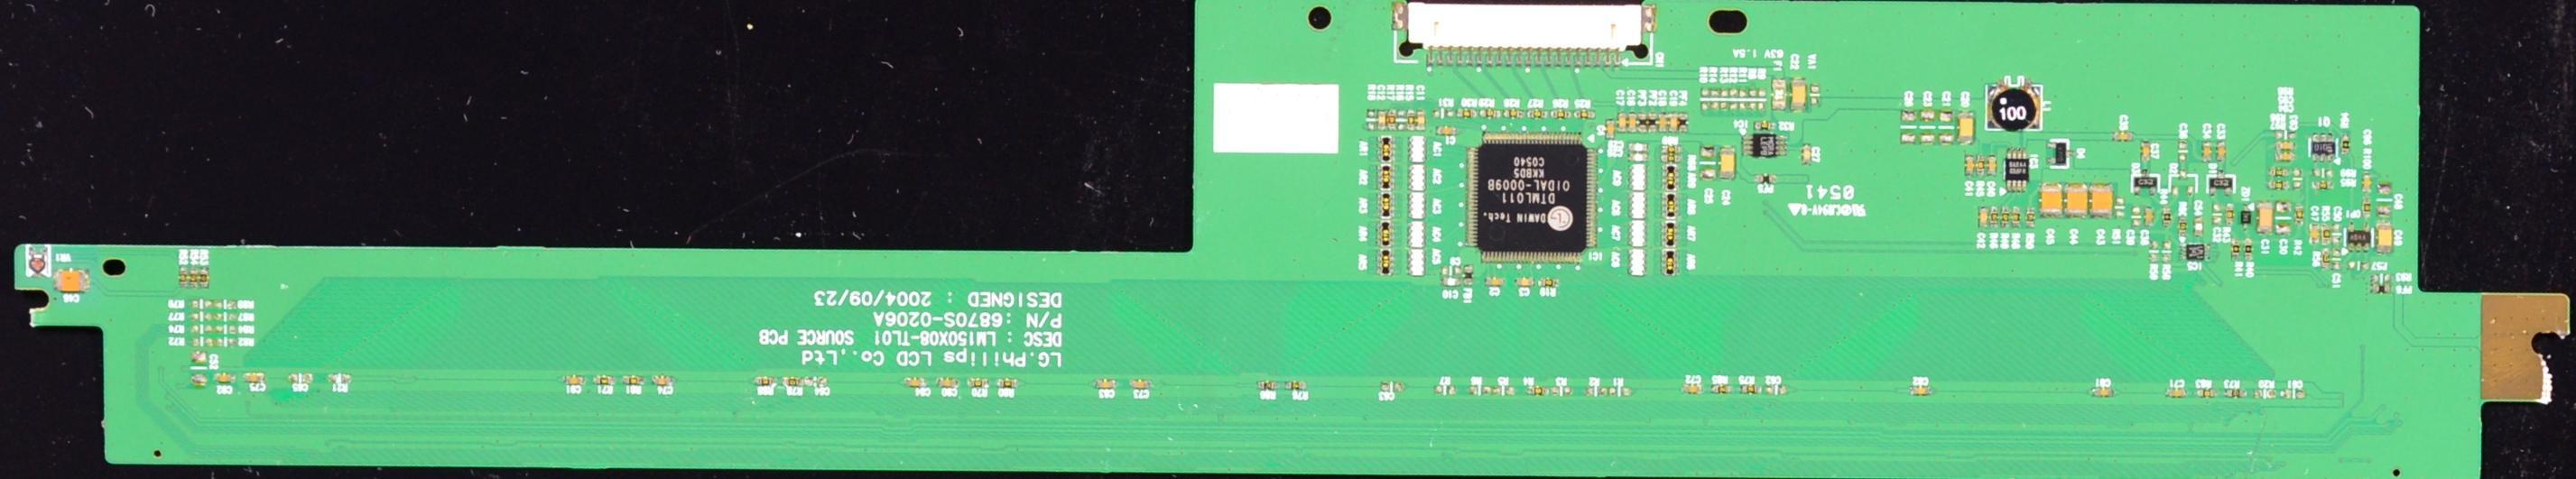Capacitor: (2062, 181, 2090, 217), (1895, 105, 1921, 144), (2038, 181, 2063, 216), (2089, 184, 2114, 216), (54, 269, 88, 293), (1717, 146, 1738, 180), (1699, 143, 1717, 180), (2377, 182, 2395, 217), (1919, 107, 1936, 144), (2375, 223, 2395, 251), (1789, 78, 1808, 109), (1956, 113, 1975, 143), (2276, 199, 2293, 236), (2256, 202, 2272, 235), (1940, 109, 1954, 146), (2089, 384, 2117, 398), (649, 373, 673, 389), (2164, 387, 2192, 400), (1514, 275, 1537, 290), (1906, 385, 1937, 397), (561, 373, 586, 386), (935, 375, 960, 389), (1677, 382, 1704, 395), (1434, 123, 1457, 137), (1437, 275, 1462, 289), (1092, 377, 1117, 391), (1764, 382, 1789, 396), (286, 371, 313, 382), (2278, 388, 2306, 399), (2143, 207, 2156, 228), (2201, 140, 2214, 162), (2193, 216, 2206, 237), (1483, 274, 1506, 288), (1130, 377, 1154, 390), (1801, 143, 1812, 167), (1978, 205, 1990, 229), (1962, 154, 1975, 176), (191, 350, 208, 364), (1416, 107, 1428, 130), (2211, 204, 2223, 227), (2331, 223, 2342, 246), (1441, 264, 1463, 276), (214, 373, 237, 385), (1381, 381, 1404, 392), (2308, 223, 2321, 244), (810, 373, 830, 387), (1604, 118, 1616, 140), (2113, 132, 2134, 143), (2331, 247, 2343, 269), (242, 372, 264, 384), (1376, 106, 1386, 132), (2178, 140, 2188, 162), (2215, 141, 2227, 161), (2132, 206, 2142, 228), (1627, 113, 1638, 134), (1988, 155, 1998, 177), (1616, 111, 1626, 130), (904, 376, 925, 386), (2275, 152, 2296, 161), (1658, 113, 1667, 131), (1669, 113, 1679, 131), (2141, 143, 2151, 161), (2277, 143, 2297, 151)
IC: (1461, 124, 1605, 266), (1740, 132, 1793, 160), (2004, 147, 2031, 193), (2179, 242, 2211, 263)
Resistor: (322, 372, 357, 384), (590, 373, 619, 386), (2311, 178, 2335, 192), (2175, 216, 2190, 239), (623, 373, 647, 389), (783, 374, 807, 389), (1478, 108, 1503, 122), (2113, 196, 2126, 219), (199, 266, 211, 290), (1432, 382, 1457, 396), (1581, 385, 1607, 398), (2224, 386, 2249, 399), (215, 298, 237, 312), (996, 376, 1016, 391), (1365, 107, 1376, 134), (2361, 171, 2373, 197), (191, 298, 214, 309), (1465, 385, 1491, 397), (1550, 386, 1575, 397), (1608, 386, 1634, 397), (2275, 130, 2298, 142), (1573, 107, 1595, 120), (2160, 206, 2173, 226), (1259, 379, 1279, 391), (1430, 108, 1457, 118), (1503, 107, 1526, 118), (1550, 109, 1572, 121), (2267, 167, 2291, 179), (2025, 207, 2036, 230), (2243, 237, 2254, 261), (190, 323, 212, 335), (214, 336, 237, 347), (753, 376, 776, 387), (2255, 389, 2277, 400), (1455, 107, 1476, 119), (1990, 204, 1999, 230), (190, 337, 215, 347), (1754, 120, 1774, 132), (1975, 155, 1986, 178), (2321, 248, 2333, 269), (1536, 275, 1558, 288), (1286, 379, 1307, 391), (1386, 107, 1397, 132), (2230, 238, 2241, 263), (2162, 240, 2172, 264), (1493, 383, 1517, 394), (1710, 88, 1719, 111), (1737, 88, 1747, 112), (1396, 108, 1406, 132), (2340, 134, 2351, 155), (2312, 167, 2334, 178), (2361, 198, 2373, 217), (2225, 202, 2235, 226), (2000, 206, 2010, 226), (177, 266, 188, 289), (189, 312, 211, 321), (214, 312, 236, 321), (214, 325, 236, 335), (1740, 384, 1760, 395), (2294, 205, 2304, 226), (2011, 207, 2021, 227), (190, 267, 199, 289), (1526, 385, 1548, 396), (2195, 387, 2217, 397), (1757, 88, 1765, 112), (2370, 273, 2395, 282), (1526, 110, 1546, 119), (1712, 384, 1731, 394), (1700, 87, 1709, 109), (1749, 87, 1757, 110), (1719, 88, 1728, 110), (1729, 87, 1738, 110), (969, 377, 987, 388), (2267, 180, 2288, 189), (2322, 225, 2330, 244), (2150, 241, 2157, 264), (1408, 109, 1415, 132)
Transistor: (2307, 131, 2337, 164), (2345, 222, 2372, 253)
